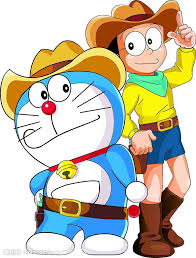doraemon: (12, 70, 150, 257)
